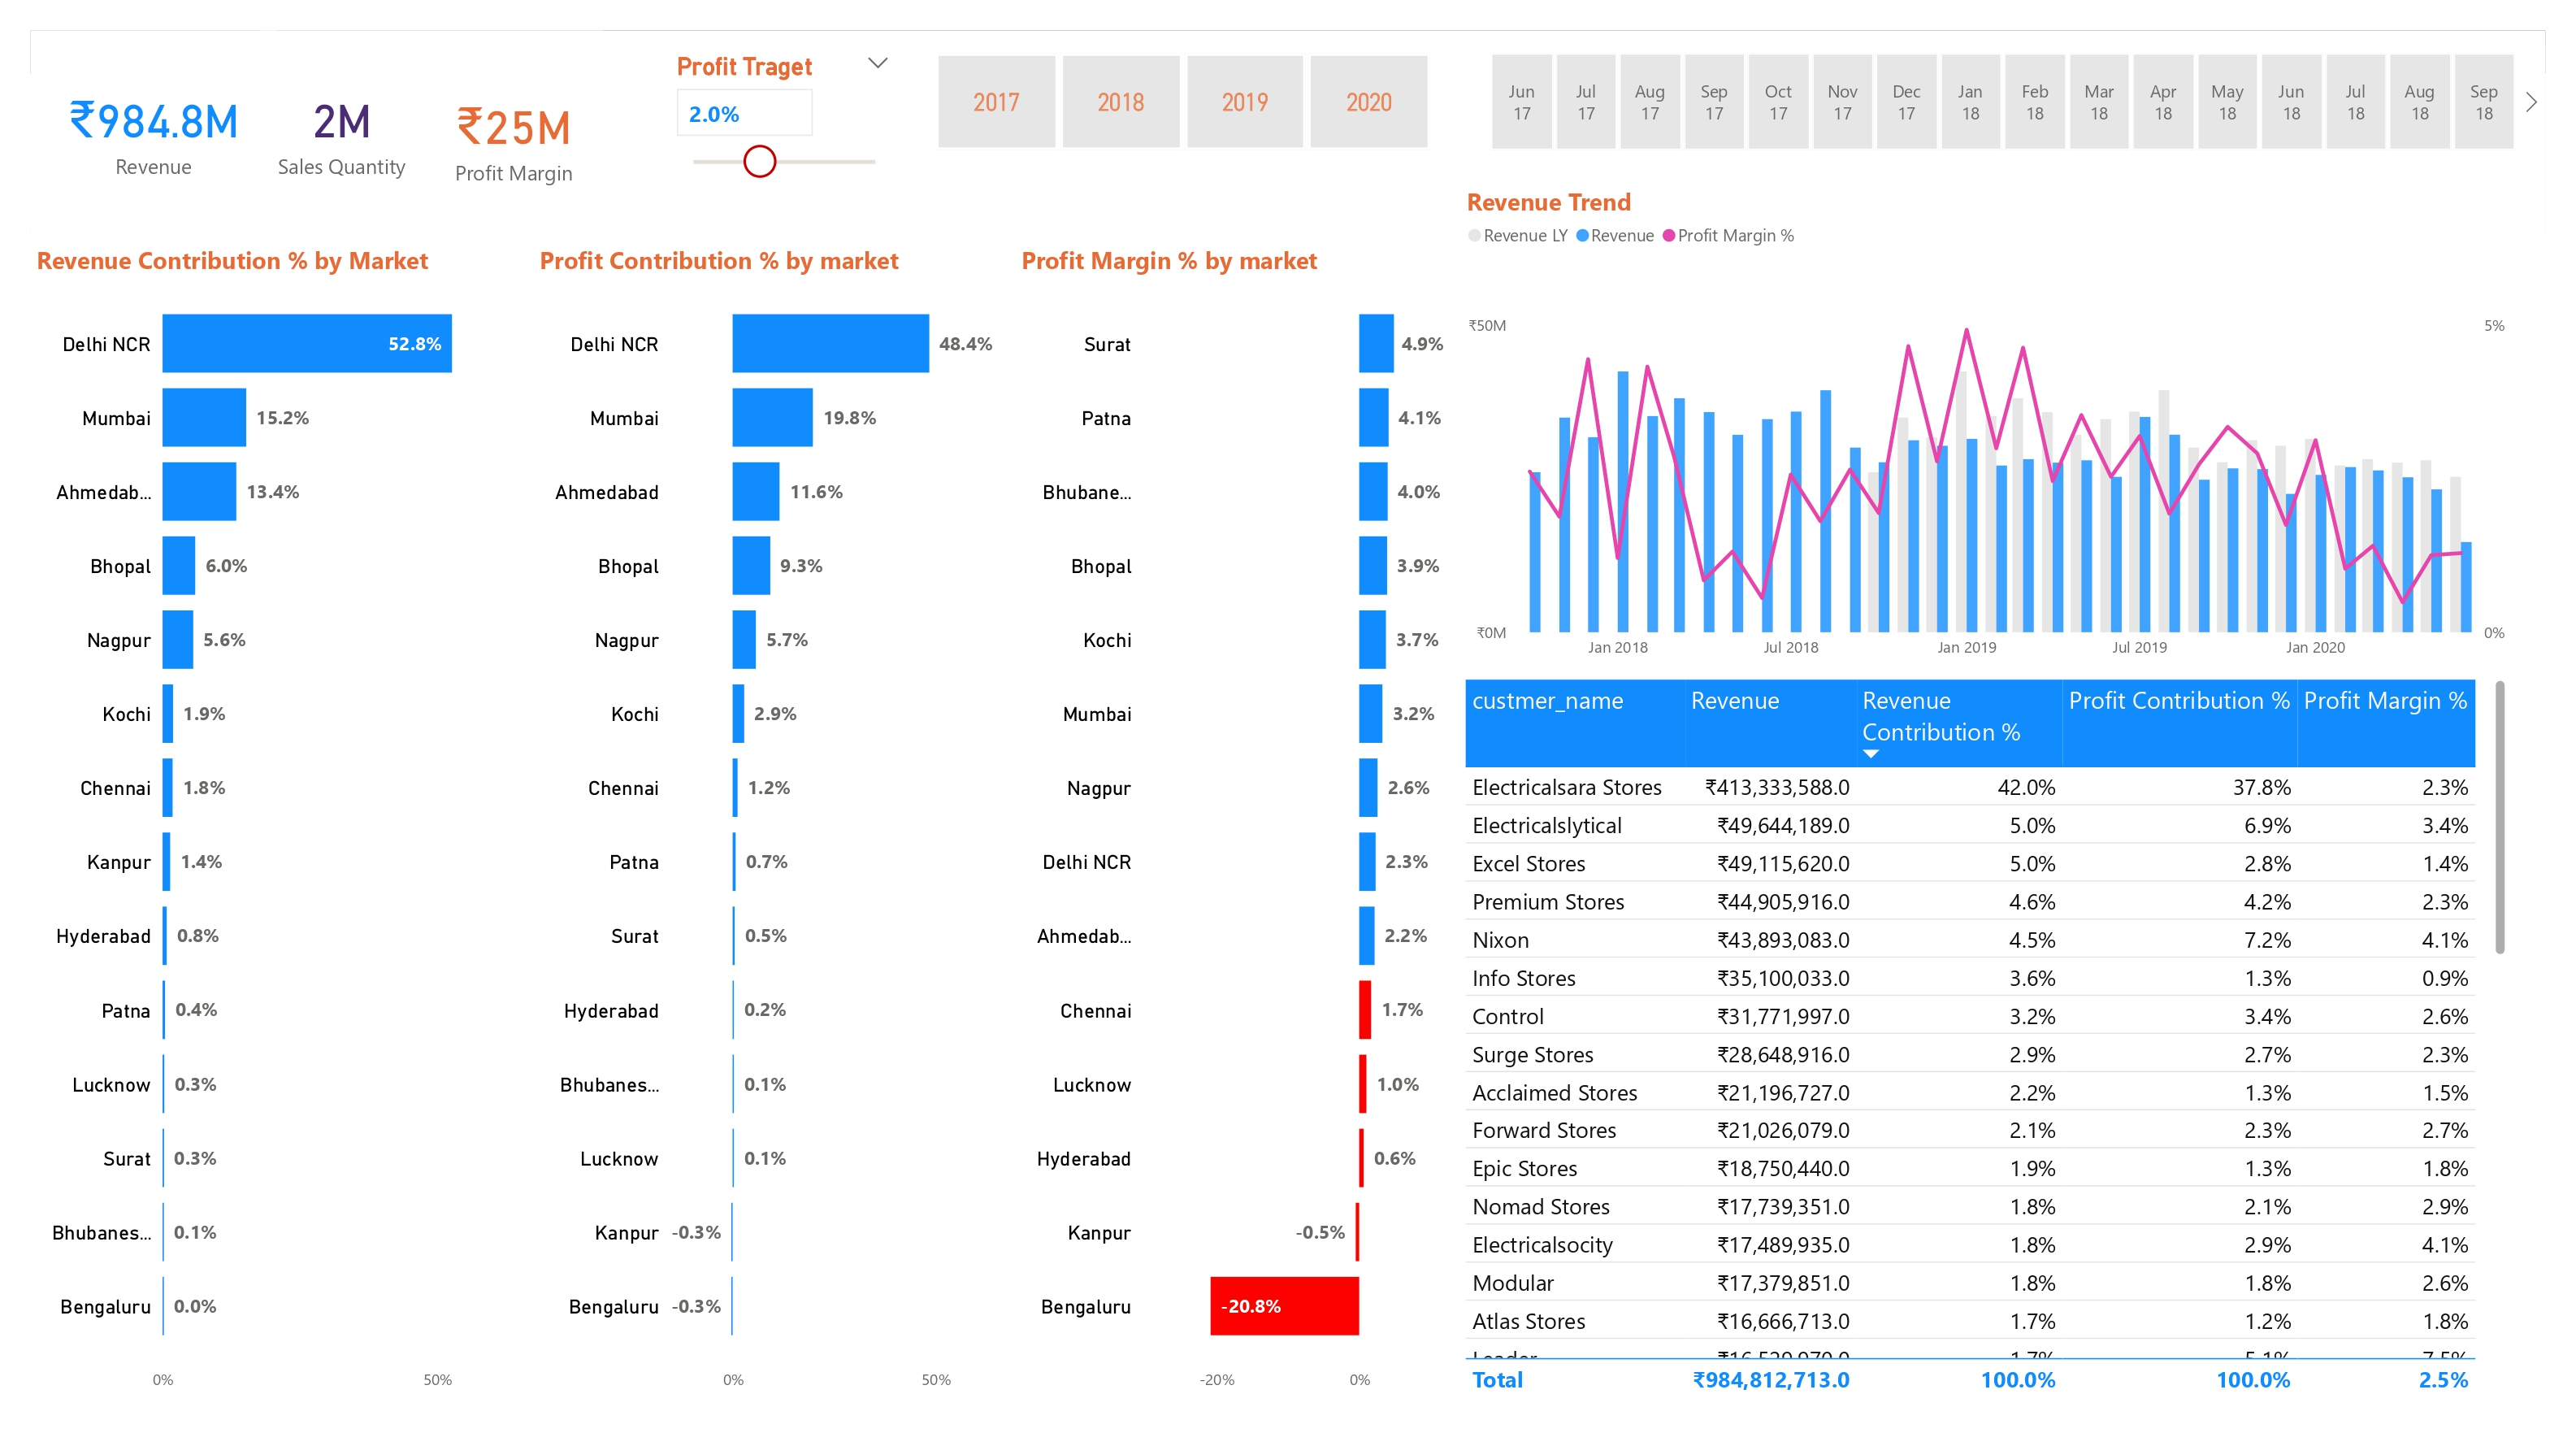

The page's visual inventory and layout, read from the dashboard file:
{"tool":"powerbi","page":{"name":"Profit Insights","canvas":[1980,1080],"ordinal":1},"visuals":[{"type":"card","fields":{"Values":["Base Measures.Revenue"]},"box":[0,0,194.3,157.1],"z":0},{"type":"card","fields":{"Values":["Base Measures.Sales Quantity"]},"box":[180,0,130,157.1],"z":1000},{"type":"slicer","fields":{"Values":["sales date.year"]},"box":[687.1,11.4,438.6,90],"z":2000},{"type":"slicer","fields":{"Values":["sales date.cy_date"]},"box":[1124.3,11.4,855.7,90],"z":3000},{"type":"lineClusteredColumnComboChart","title":"Revenue Trend","fields":{"Category":["sales date.cy_date"],"Y":["Base Measures.Revenue LY","Base Measures.Revenue"],"Y2":["Base Measures.Total Profit Margin %"]},"box":[1126,122,828,382],"z":4000},{"type":"card","fields":{"Values":["Base Measures.Total Profit Margin"]},"box":[310,0,141.4,167.1],"z":5000},{"type":"barChart","title":" Profit Margin % by market","fields":{"Y":["Base Measures.Total Profit Margin %"],"Category":["sales markets.markets_name"]},"box":[775,168,351.7,911.6],"z":6000},{"type":"barChart","title":"Profit Contribution % by market","fields":{"Category":["sales markets.markets_name"],"Y":["Base Measures.Total Profit Margin Contribution %"]},"box":[396.4,168,378.5,911.6],"z":7000},{"type":"barChart","title":"Revenue Contribution % by Market","fields":{"Y":["Base Measures.Total Revenue Contribution %"],"Category":["sales markets.markets_name"]},"box":[0,168,396.4,911.6],"z":8000},{"type":"tableEx","fields":{"Values":["sales customers.custmer_name","Base Measures.Revenue","Base Measures.Total Revenue Contribution %","Base Measures.Total Profit Contribution %","Base Measures.Total Profit Margin %"]},"box":[1124,506,830,574],"z":9000},{"type":"slicer","fields":{"Values":["Profit Traget.Profit Traget"]},"box":[496,12,192,156],"z":10000}]}

Visuals, with their boxes on the page's 1980x1080 design canvas (x1, y1, x2, y2). These are canvas units, not pixel positions in the 2576x1433 screenshot, which may show the page scaled, cropped or inside an application window:
card - Base Measures.Revenue: {"left": 0, "top": 0, "right": 194, "bottom": 157}
card - Base Measures.Sales Quantity: {"left": 180, "top": 0, "right": 310, "bottom": 157}
slicer - sales date.year: {"left": 687, "top": 11, "right": 1126, "bottom": 101}
slicer - sales date.cy_date: {"left": 1124, "top": 11, "right": 1980, "bottom": 101}
"Revenue Trend" lineClusteredColumnComboChart: {"left": 1126, "top": 122, "right": 1954, "bottom": 504}
card - Base Measures.Total Profit Margin: {"left": 310, "top": 0, "right": 451, "bottom": 167}
" Profit Margin % by market" barChart: {"left": 775, "top": 168, "right": 1127, "bottom": 1080}
"Profit Contribution % by market" barChart: {"left": 396, "top": 168, "right": 775, "bottom": 1080}
"Revenue Contribution % by Market" barChart: {"left": 0, "top": 168, "right": 396, "bottom": 1080}
tableEx - sales customers.custmer_name x Base Measures.Revenue: {"left": 1124, "top": 506, "right": 1954, "bottom": 1080}
slicer - Profit Traget.Profit Traget: {"left": 496, "top": 12, "right": 688, "bottom": 168}
